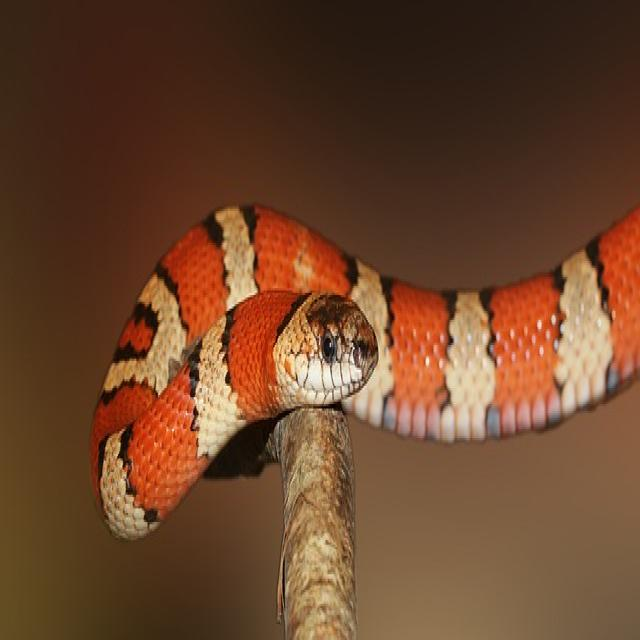Carnivorous: (90, 207, 640, 542)
